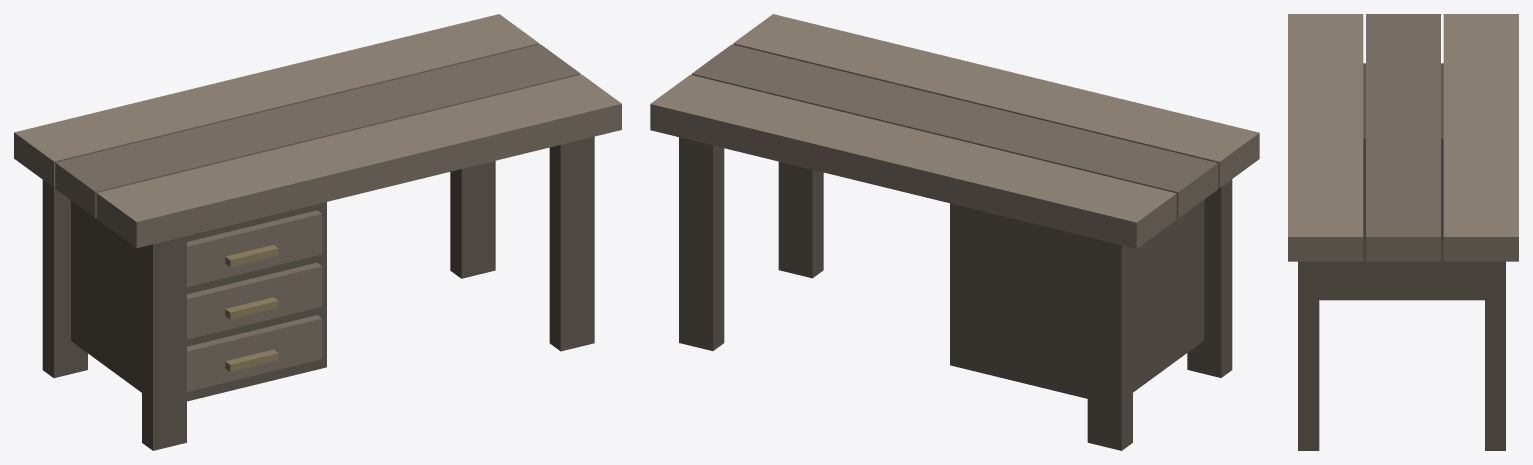
Rendered from captain_desk.glb.
3 renders of one model, left to right at view 1: azimuth 30°, elevation 25°; view 2: azimuth 150°, elevation 25°; view 3: azimuth 270°, elevation 25°, orthographic. The views are drawn at different scales.
Visible parts, largest first — view 1: captain_desk; view 2: captain_desk; view 3: captain_desk.
Part boxes in pixels (x1=…): captain_desk: x1=14, y1=14, x2=621, y2=450; captain_desk: x1=650, y1=14, x2=1259, y2=450; captain_desk: x1=1288, y1=14, x2=1518, y2=450.
Bounding box in the file's own units: 1.6 × 0.75 × 0.7.
